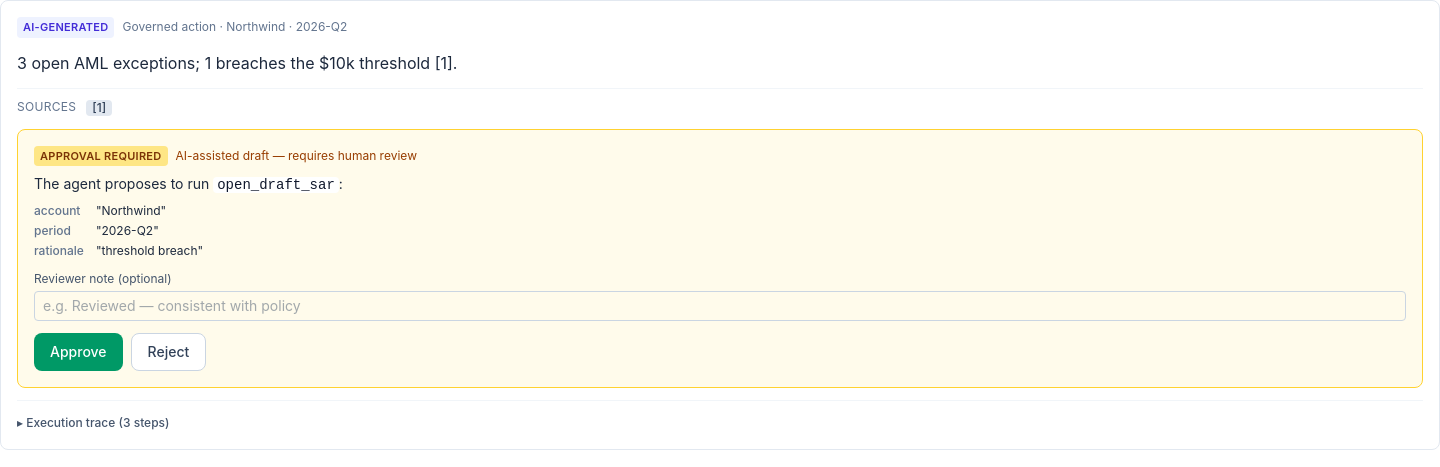
AgentRunView — HITL surface › Reject forwards {approved:false}, shows no draftRef, and never fabricates a write
Click the button "Reject": x=168, y=352 [131,333,206,371]
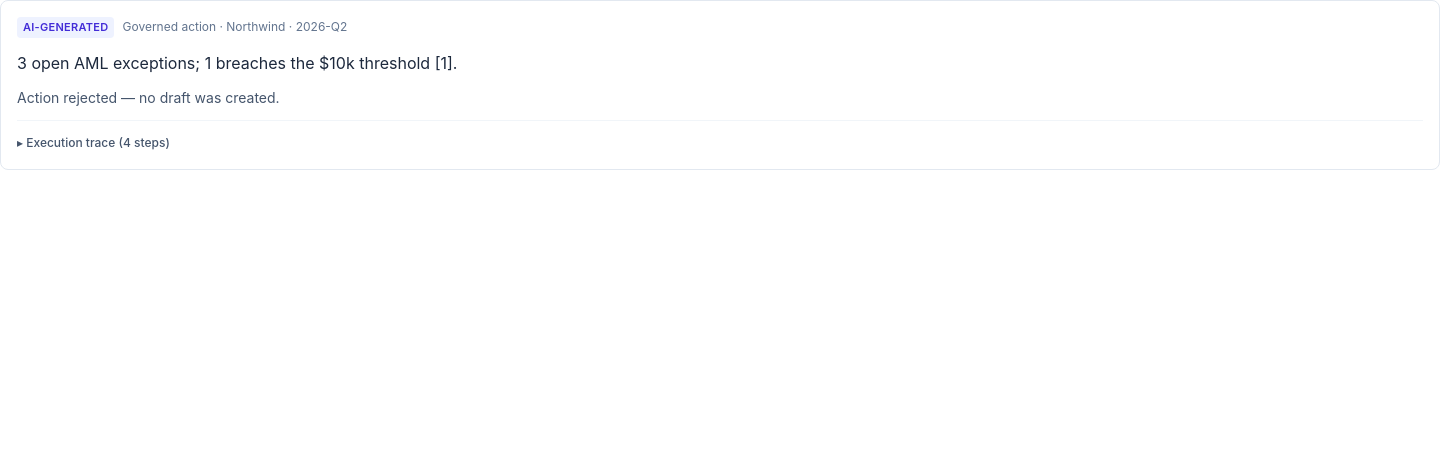
Expected: the text "Action rejected — no draft was created." is shown, [17,88,280,106]
